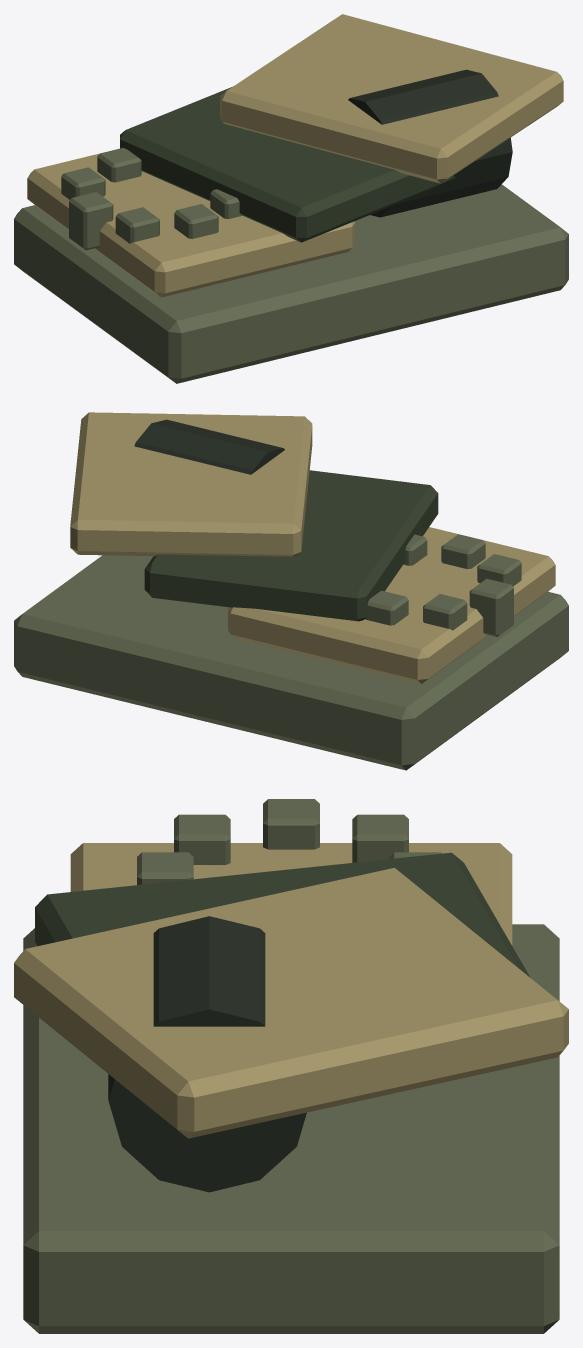
The model's file is loot_scrap.obj.
3 renders of one model, top to bottom at view 1: azimuth 30°, elevation 25°; view 2: azimuth 150°, elevation 25°; view 3: azimuth 270°, elevation 25°, orthographic. The views are drawn at different scales.
Parts seen in each view (by area): view 1: loot_scrap; view 2: loot_scrap; view 3: loot_scrap.
Boxes of the visible parts, <box> form: loot_scrap: <box>14,14,568,383</box>; loot_scrap: <box>14,412,568,770</box>; loot_scrap: <box>14,799,568,1333</box>.
Bounding box in the file's own units: 1.36 × 0.53 × 0.8795.
1 material, 1 textured.
